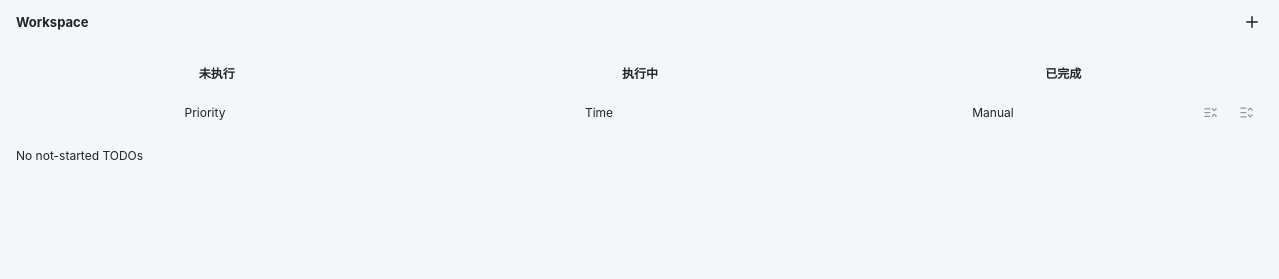
Scenario: ProjectSidebar › keeps TODO project rows free of project folder menus
Click the button with test id "todo-view-in-progress" at (640, 72), box [431,56,849,88]
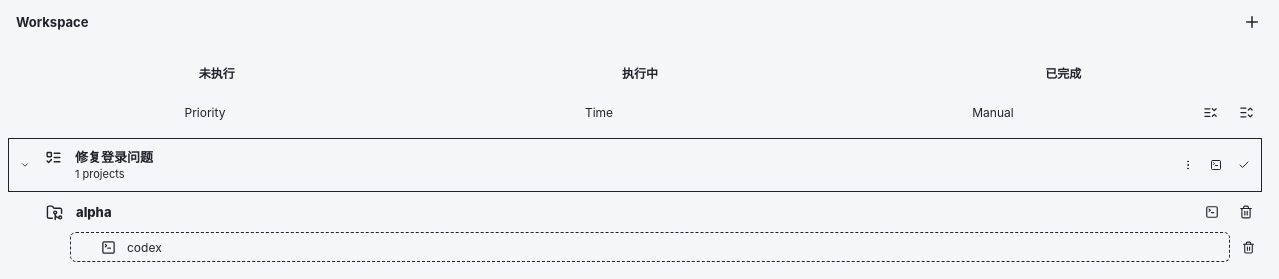
Check: the button with test id "remove-todo-project-todo-project-a" is shown, box [1231,197,1261,227]
